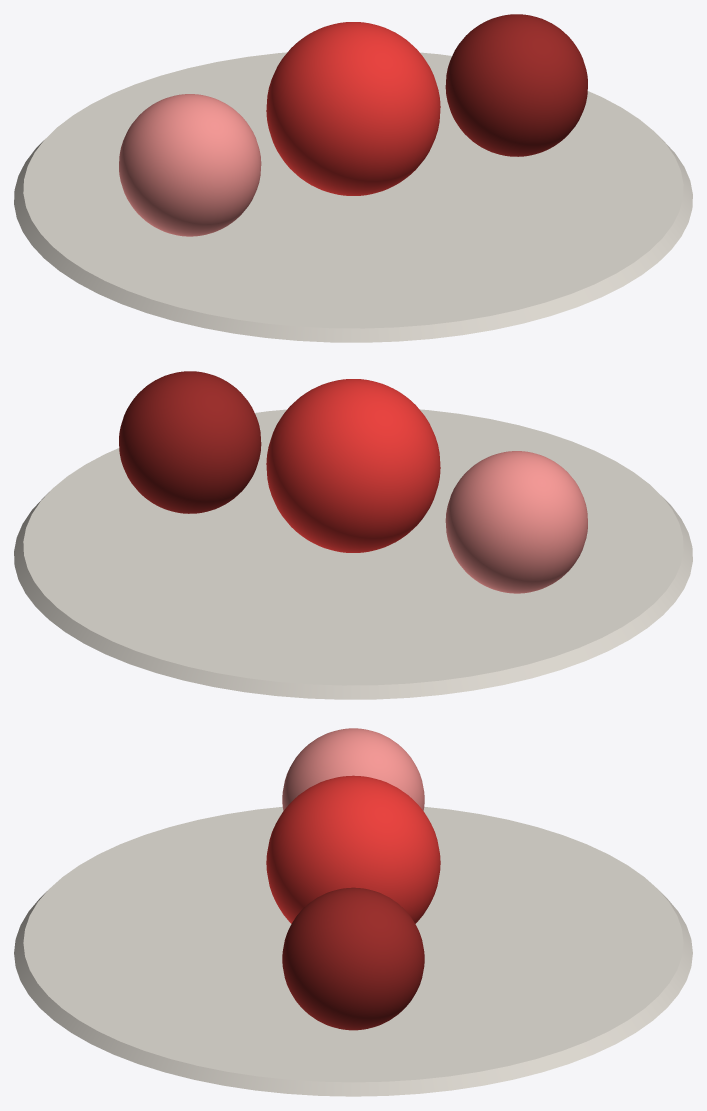
Rendered from red.glb.
3 renders of one model, top to bottom at view 1: azimuth 30°, elevation 25°; view 2: azimuth 150°, elevation 25°; view 3: azimuth 270°, elevation 25°, orthographic.
Visible parts, largest first — view 1: base, normal, light, dark; view 2: base, normal, light, dark; view 3: base, normal, dark, light.
Boxes of the visible parts, left/top/right/bottom form: base: left=14, top=52, right=692, bottom=342; normal: left=266, top=22, right=440, bottom=195; light: left=119, top=94, right=261, bottom=236; dark: left=445, top=14, right=587, bottom=156; base: left=14, top=409, right=692, bottom=699; normal: left=266, top=379, right=440, bottom=552; light: left=445, top=451, right=587, bottom=593; dark: left=119, top=371, right=261, bottom=513; base: left=14, top=807, right=692, bottom=1096; normal: left=266, top=775, right=440, bottom=923; dark: left=282, top=887, right=424, bottom=1030; light: left=282, top=728, right=424, bottom=810.
Size of the model in its own units: 3.6 by 0.99 by 3.6.
